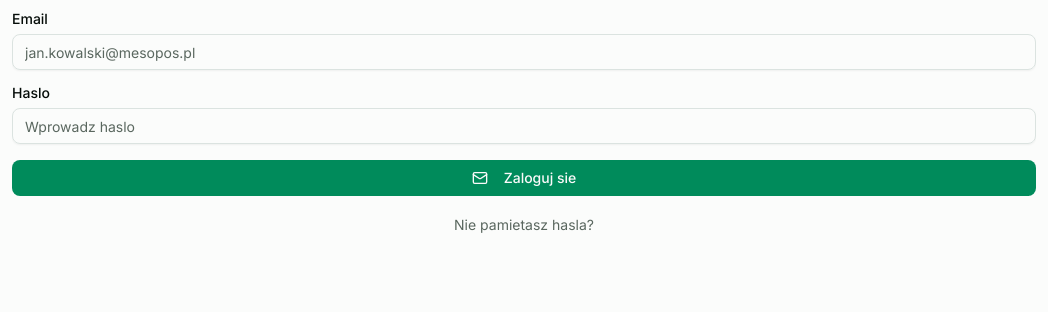
Scenario: LoginForm › displays error message when signIn returns { error: "..." }
Type "test@example.com" into the field labelled "Email".
click(524, 52); type("test@example.com")  # box [12,34,1036,70]
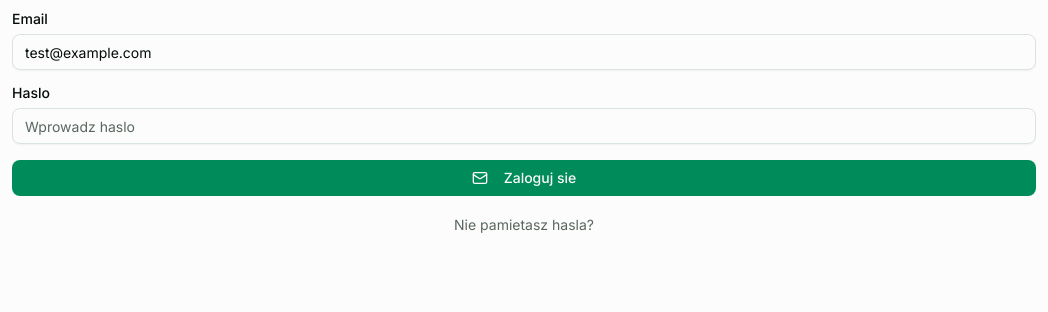
Type "wrongpass" into the password field labelled "Haslo".
click(524, 126); type("wrongpass")  # box [12,108,1036,144]
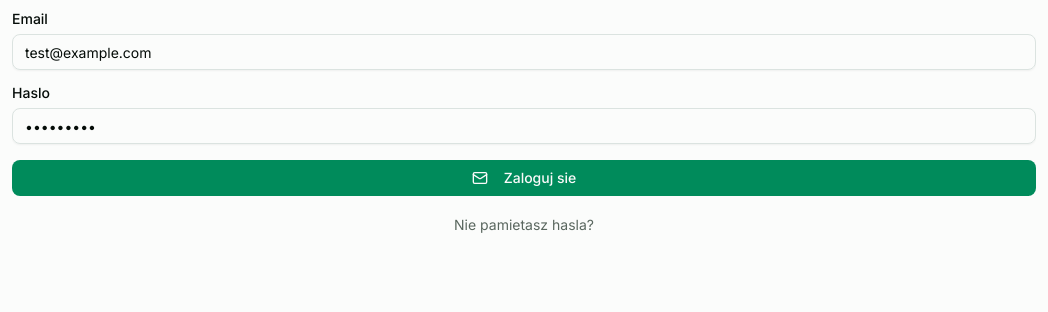
Click the button "Zaloguj sie".
click(524, 178)  # box [12,160,1036,196]
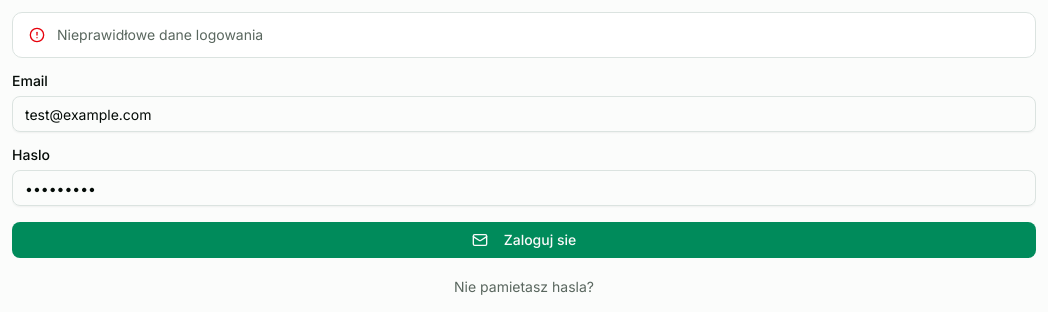
Expected: the text "Nieprawidłowe dane logowania" is shown, [57,26,263,43]
